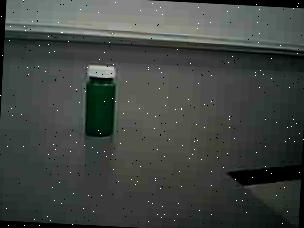Bottle C: (73, 58, 128, 147)
